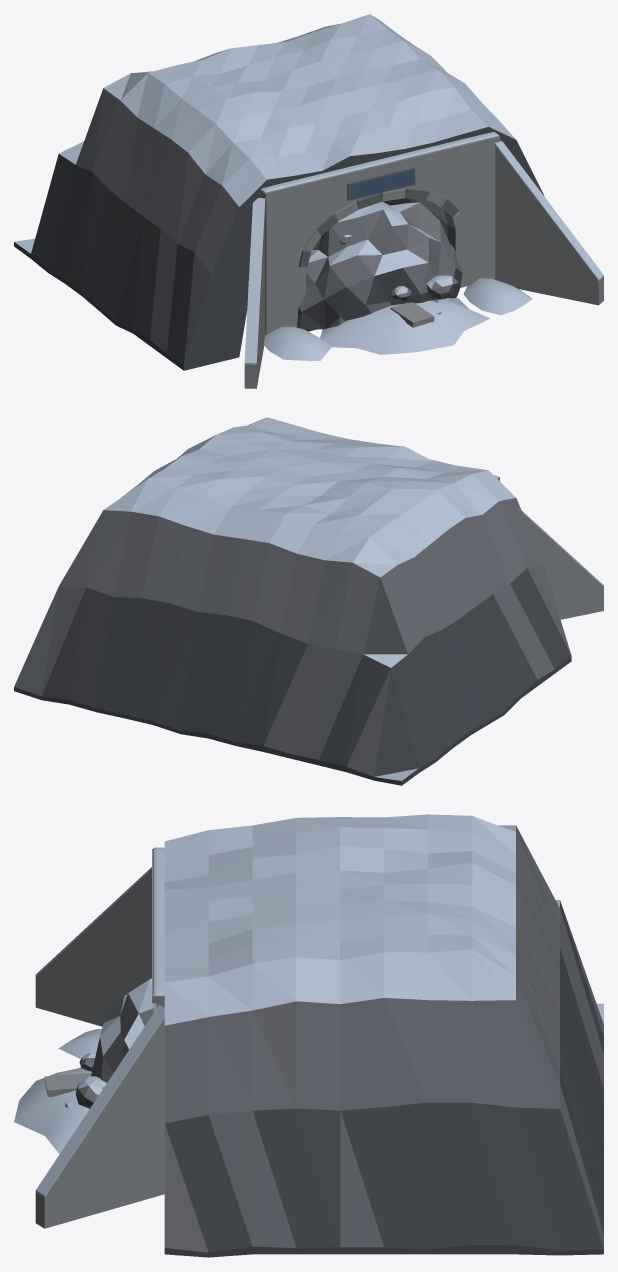
Rendered from tunnel_portal_collapsed.glb.
The picture shows the model from 3 angles, top to bottom: view 1: azimuth 30°, elevation 25°; view 2: azimuth 150°, elevation 25°; view 3: azimuth 270°, elevation 25°; orthographic projection. The views are drawn at different scales.
Visible parts, largest first — view 1: Portal, Rubble, Panel; view 2: Portal; view 3: Portal, Rubble.
Part boxes in pixels (box(x1,y1,x2,y2)): Portal: box(14, 14, 603, 388); Rubble: box(296, 201, 490, 354); Panel: box(350, 170, 413, 199); Portal: box(14, 417, 603, 785); Portal: box(35, 814, 603, 1257); Rubble: box(14, 978, 153, 1153).
Size of what is drawn, in the model's own units: 22 by 10.87 by 22.43.
